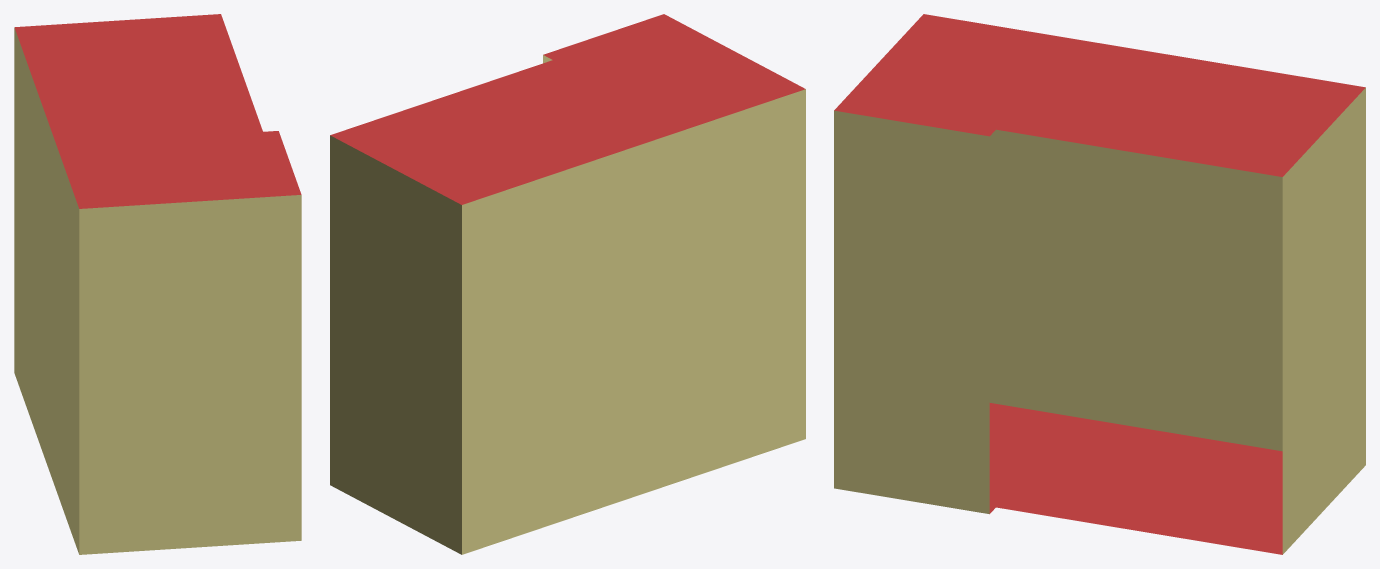
3 renders of one model, left to right at view 1: azimuth 30°, elevation 25°; view 2: azimuth 150°, elevation 25°; view 3: azimuth 270°, elevation 25°, orthographic. The views are drawn at different scales.
Bounding box in the file's own units: 5.46 × 7.52 × 5.89.
